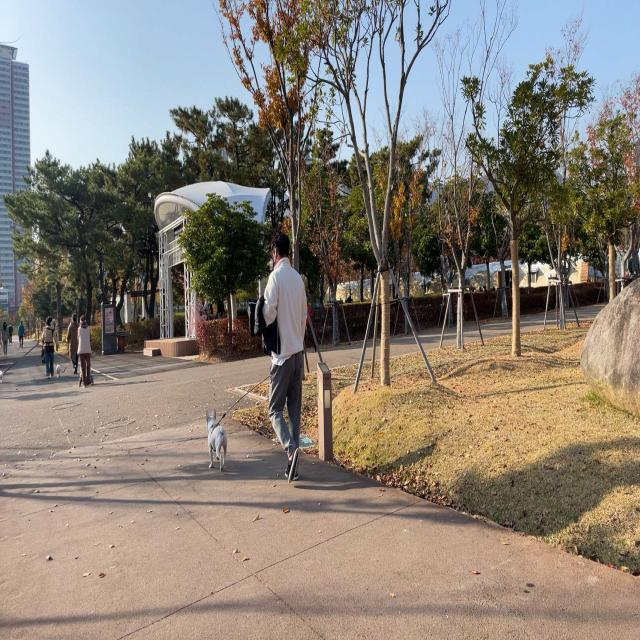Leashed_Dog: (206, 344, 282, 474), (0, 335, 48, 384), (56, 339, 72, 377)
